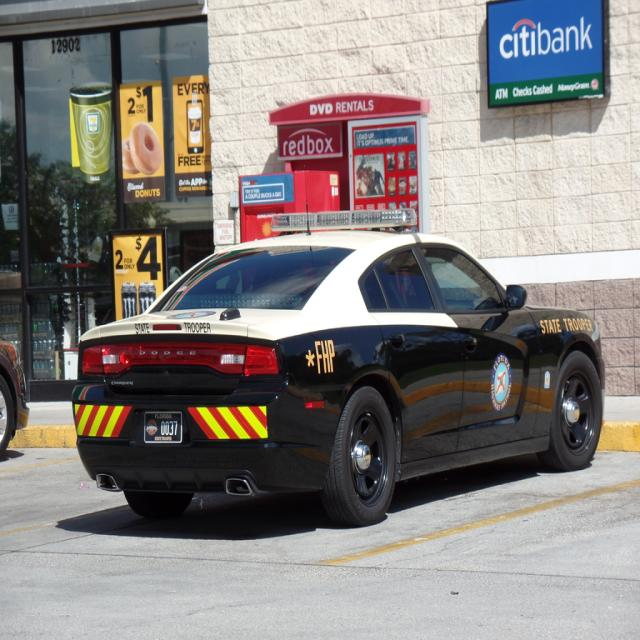car: (75, 208, 607, 522)
